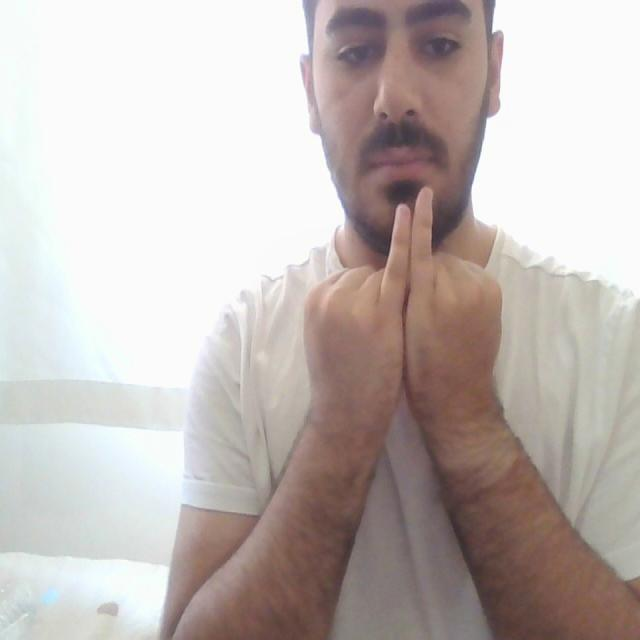Kardes: (302, 174, 506, 436)
